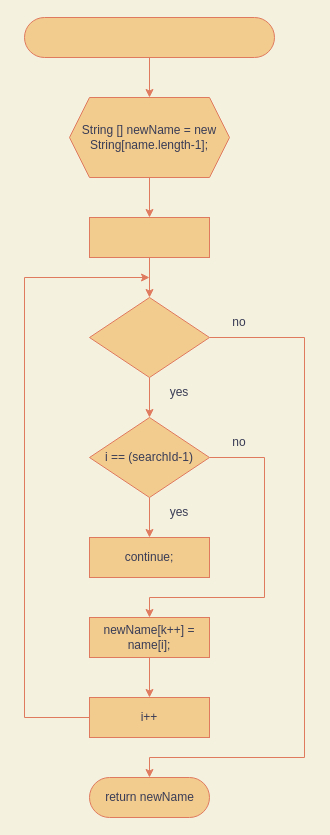
The diagram is 330 pixels wide and 835 high, and some of its shapes have lost their labels. Each missing label, with the centre of its shape:
deleteName(int searchId, String [] name): the point at 149,37
i < name.length: the point at 149,337
int i = 0, k = 0: the point at 149,237
